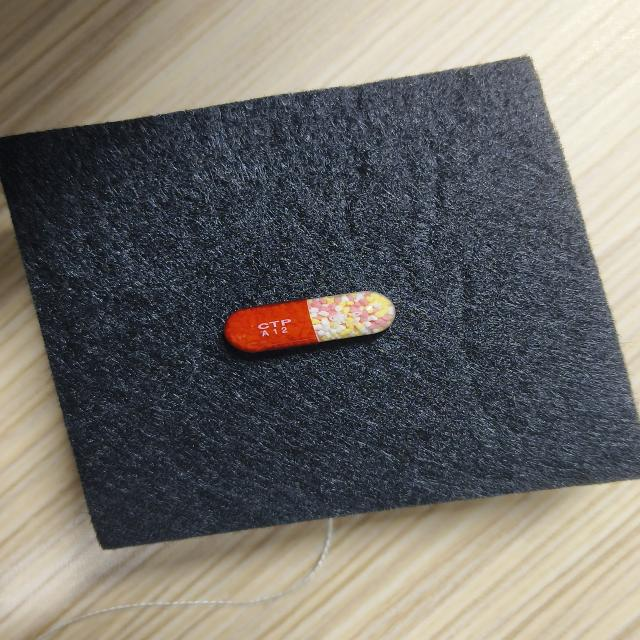Intact Capsule: (224, 291, 395, 352)
